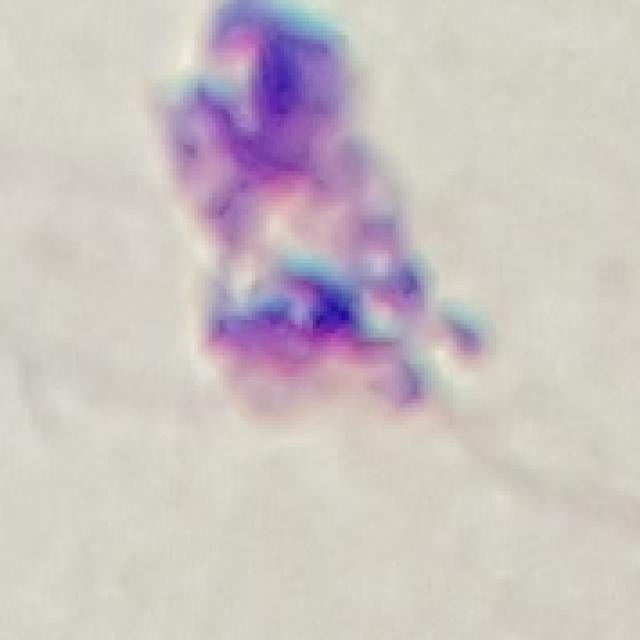non-sperm: (158, 0, 492, 413)
